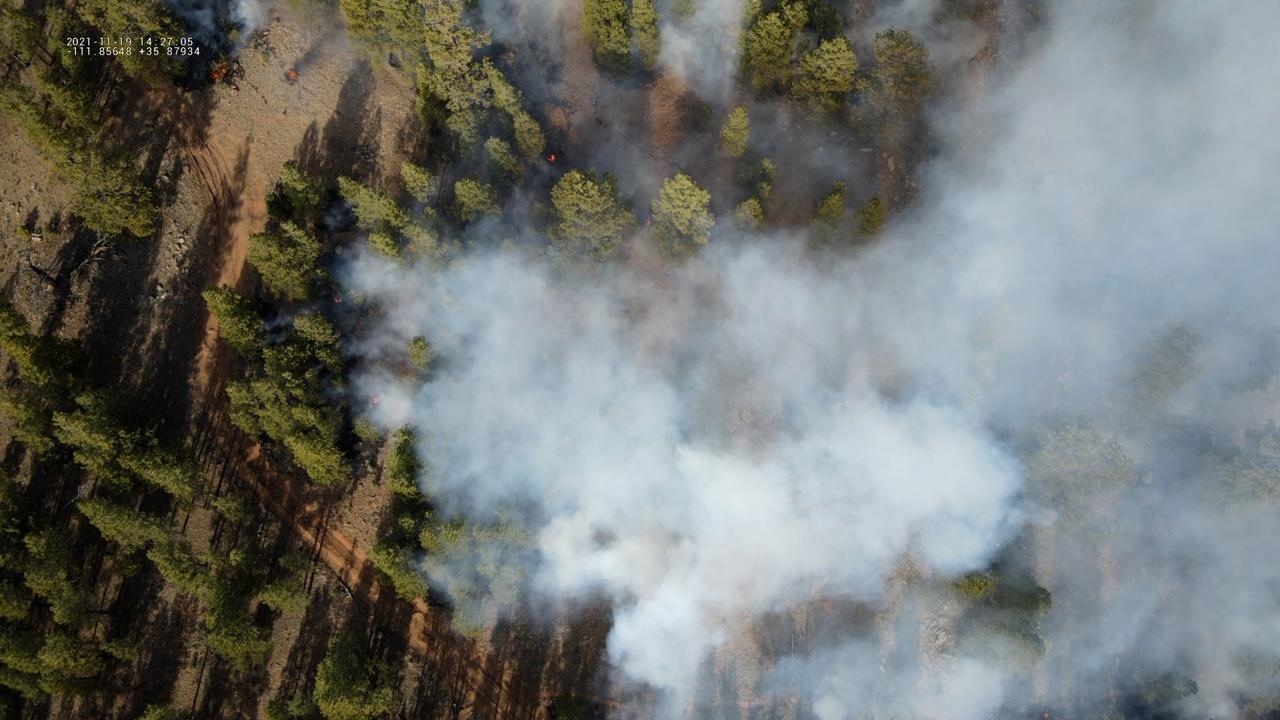fire: (207, 63, 227, 81), (287, 68, 298, 81), (547, 153, 557, 163), (333, 295, 343, 304)
smoke: (266, 0, 1280, 720), (161, 0, 266, 89)
